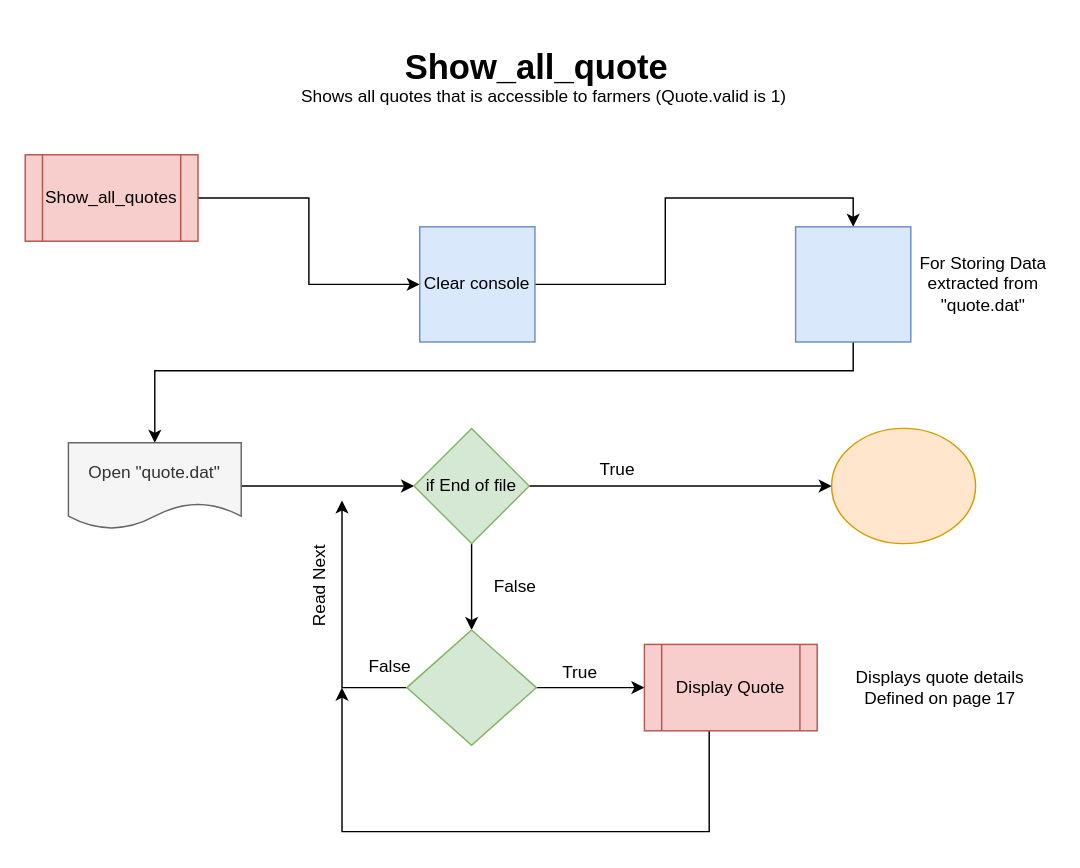
Image size: 1080x868. Some labels were removed from this diagram. The shapes that lost their labels are listed below. From the top down, each one's box as (x1, y1, x2, y2) in pixels, then its label:
(794, 225, 911, 342): Initialize buyer_quotes object "quote"
(830, 427, 976, 544): Terminate Proceess
(405, 629, 536, 745): if quote is valid?
